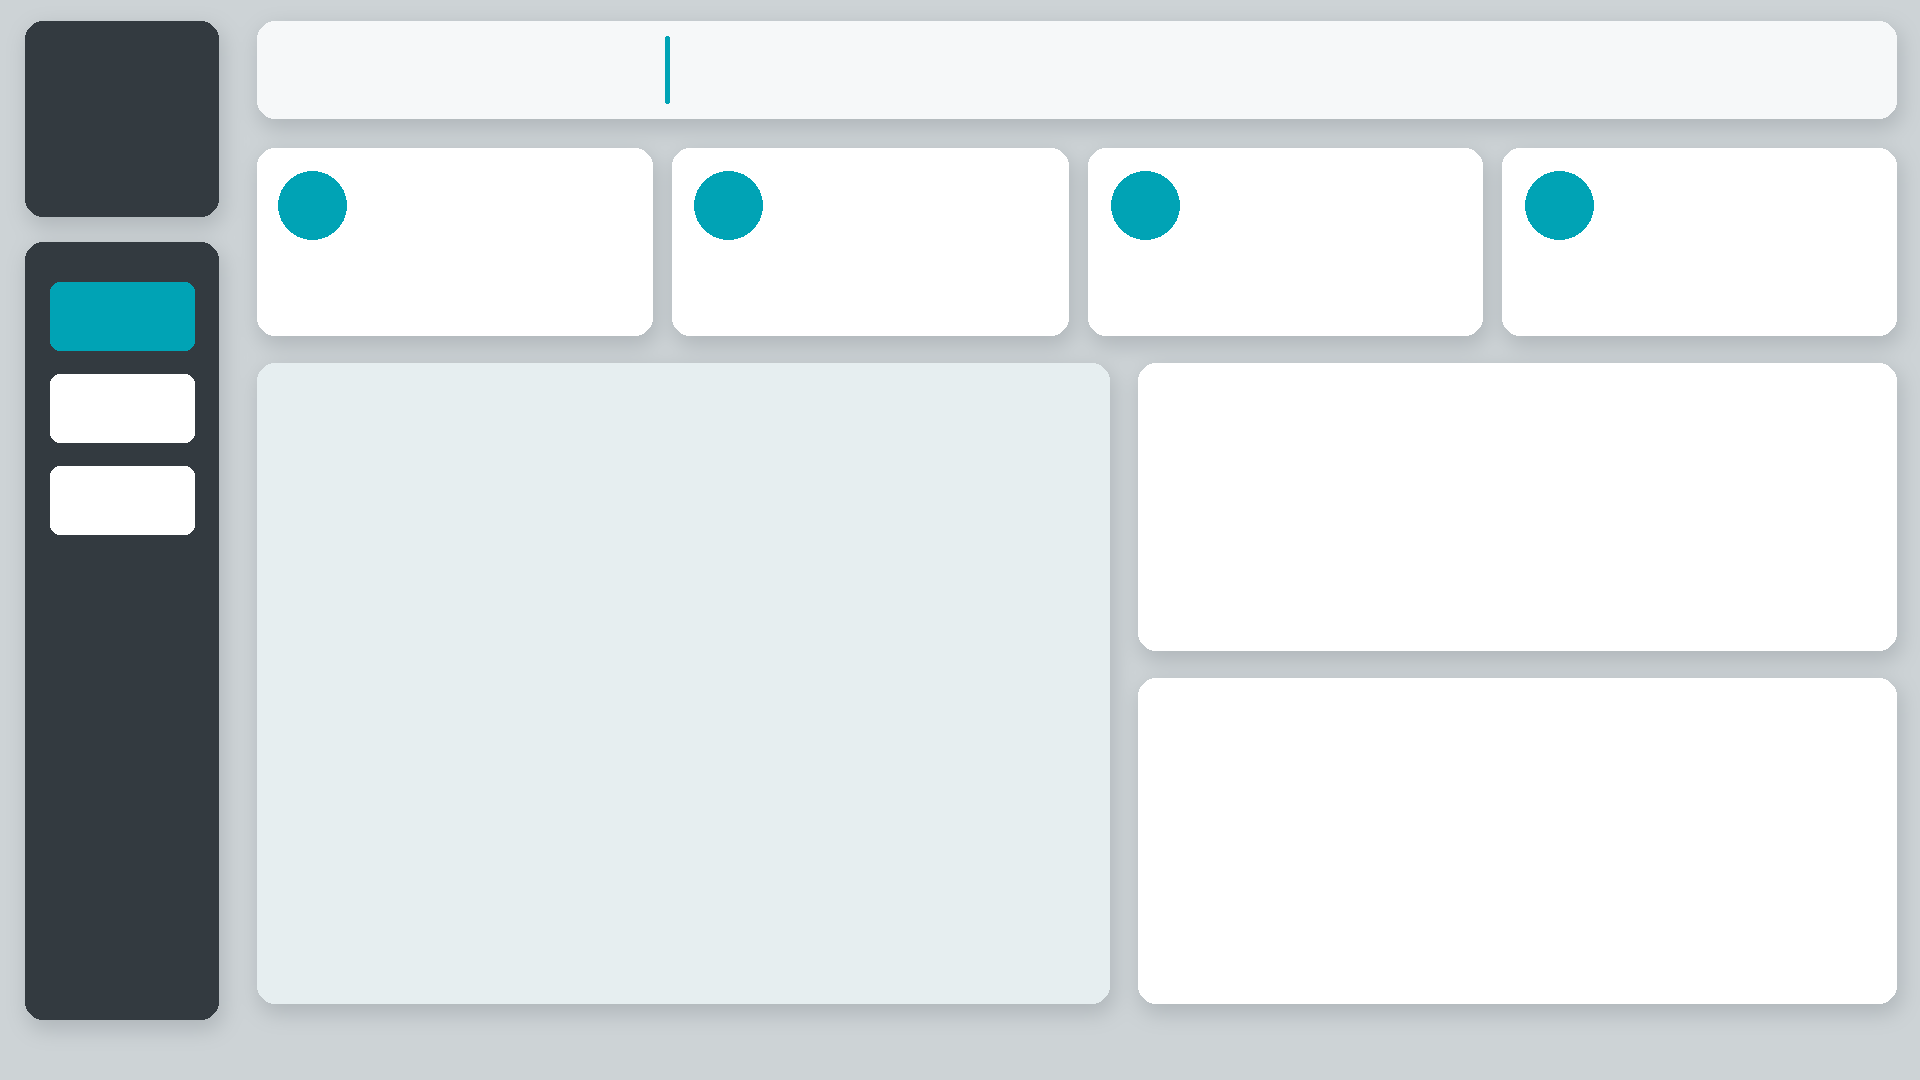

What the dashboard file says about the page in this screenshot:
{"tool":"powerbi","page":{"name":"Mapa","canvas":[1920,1080],"ordinal":3},"visuals":[{"type":"shape","box":[45.7,272.4,155,79],"z":0},{"type":"shape","box":[45.4,366.2,155.4,79.2],"z":1000},{"type":"shape","box":[46,460,154,78],"z":2000},{"type":"actionButton","title":"Btn_close","box":[90.8,123.2,65,65],"z":3000},{"type":"actionButton","title":"Btn_filter","box":[91.1,41.8,65,65],"z":4000},{"type":"map","fields":{"Y":["Dim_Cliente.Latitud"],"X":["Dim_Cliente.Longitud"]},"box":[280,240,1610,747.5],"z":6000},{"type":"image","box":[305.7,18.6,331.4,95.7],"z":8000},{"type":"shape","box":[1745,20,152.5,90],"z":9000},{"type":"actionButton","box":[681.6,8.4,1070,77.5],"z":10000},{"type":"actionButton","box":[684.1,68.4,1210,50],"z":11000},{"type":"actionButton","box":[291.4,165.7,1070,77.1],"z":12000}]}

Visuals, with their boxes in screenshot pixels (x1, y1, x2, y2), scaled from the page's 1920x1080 canvas onto the 1920x1080 screenshot:
shape: [46,272,201,351]
shape: [45,366,201,445]
shape: [46,460,200,538]
"Btn_close" actionButton: [91,123,156,188]
"Btn_filter" actionButton: [91,42,156,107]
map - Dim_Cliente.Latitud x Dim_Cliente.Longitud: [280,240,1890,988]
image: [306,19,637,114]
shape: [1745,20,1898,110]
actionButton: [682,8,1752,86]
actionButton: [684,68,1894,118]
actionButton: [291,166,1361,243]
